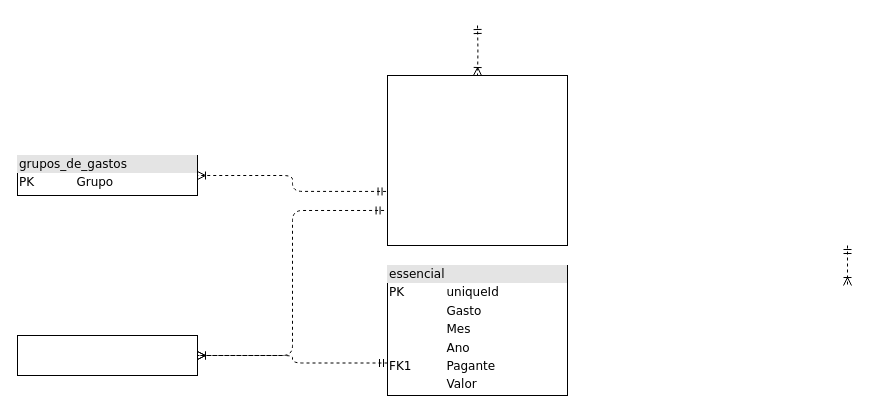
Image size: 874x413. Some labels were removed from this diagram. Each missing label, with the centre of its shape:
"itens_do_mes PK id Gasto Dia Mes Ano FK1 Grupo FK1 Pagante Valor" goes at (x=477, y=160).
"pagadores PK Pagante" goes at (x=107, y=355).
